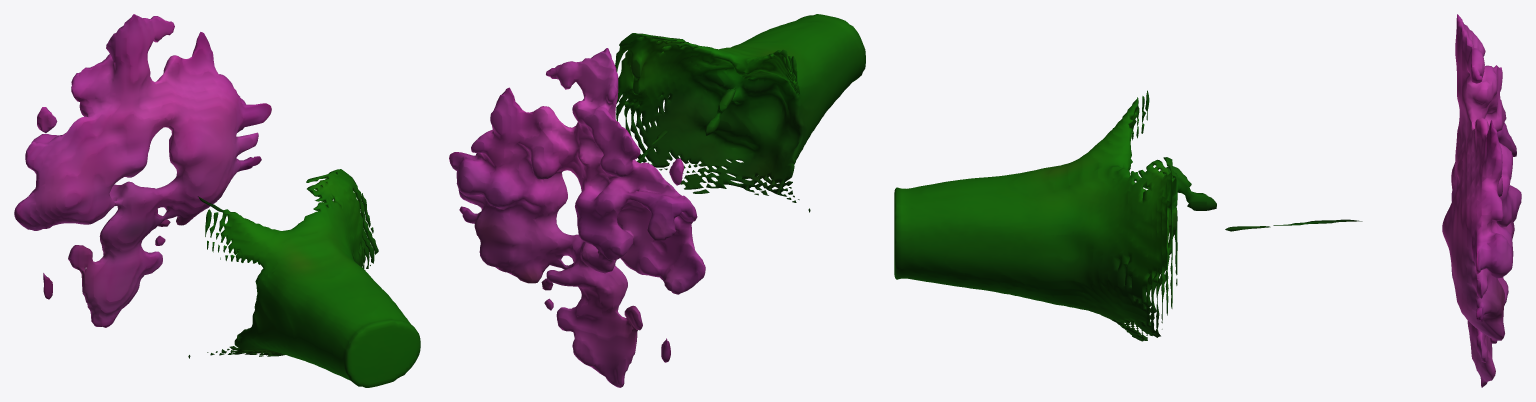
The model's file is Flower.FBX.
3 views of the same model, side by side, from view 1: azimuth 30°, elevation 25°; view 2: azimuth 150°, elevation 25°; view 3: azimuth 270°, elevation 25° (orthographic). The views are drawn at different scales.
Parts seen in each view (by area): view 1: plyFile; view 2: plyFile; view 3: plyFile.
Boxes of the visible parts, x1=… form: plyFile: x1=14, y1=14, x2=420, y2=387; plyFile: x1=449, y1=14, x2=865, y2=387; plyFile: x1=894, y1=14, x2=1521, y2=387.
Size of the model in its own units: 112 by 133 by 198.
